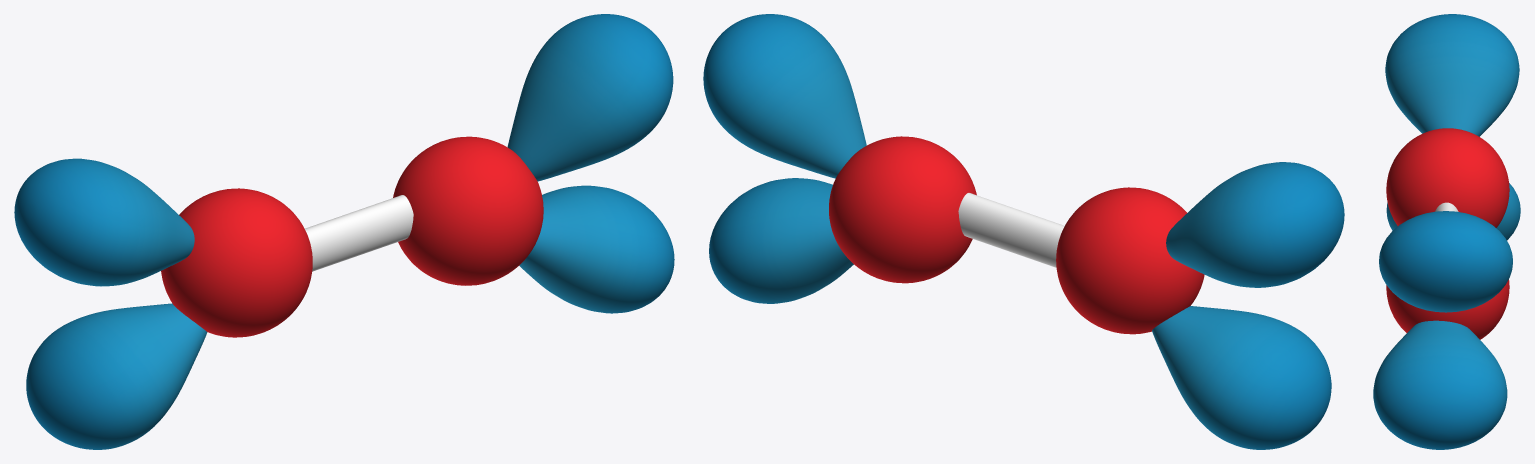
Rendered from asset.glb.
3 views of the same model, side by side, from view 1: azimuth 30°, elevation 25°; view 2: azimuth 150°, elevation 25°; view 3: azimuth 270°, elevation 25° (orthographic). The views are drawn at different scales.
Visible parts, largest first — view 1: node_id77, node_id79, mesh_id35, node_id87, mesh_id50, node_id65, mesh_id52; view 2: node_id77, node_id79, mesh_id35, node_id87, mesh_id50, node_id65, mesh_id52; view 3: node_id65, node_id87, node_id77, mesh_id50, mesh_id35, node_id79.
Boxes of the visible parts, x1=… form: node_id77: x1=507, y1=14, x2=673, y2=181; node_id79: x1=26, y1=303, x2=207, y2=449; mesh_id35: x1=393, y1=136, x2=543, y2=285; node_id87: x1=14, y1=158, x2=194, y2=286; mesh_id50: x1=161, y1=188, x2=312, y2=337; node_id65: x1=519, y1=185, x2=674, y2=313; mesh_id52: x1=305, y1=195, x2=413, y2=271; node_id77: x1=703, y1=14, x2=866, y2=178; node_id79: x1=1152, y1=306, x2=1331, y2=449; mesh_id35: x1=829, y1=136, x2=976, y2=283; node_id87: x1=1166, y1=162, x2=1344, y2=287; mesh_id50: x1=1056, y1=187, x2=1204, y2=334; node_id65: x1=709, y1=178, x2=853, y2=303; mesh_id52: x1=958, y1=193, x2=1064, y2=267; node_id65: x1=1373, y1=320, x2=1507, y2=449; node_id87: x1=1385, y1=14, x2=1519, y2=136; node_id77: x1=1379, y1=211, x2=1512, y2=312; mesh_id50: x1=1386, y1=128, x2=1509, y2=227; mesh_id35: x1=1386, y1=279, x2=1509, y2=339; node_id79: x1=1386, y1=183, x2=1520, y2=240.
Bounding box in the file's own units: 0.6561 × 0.295 × 0.1608.
3 materials, 3 textured.
